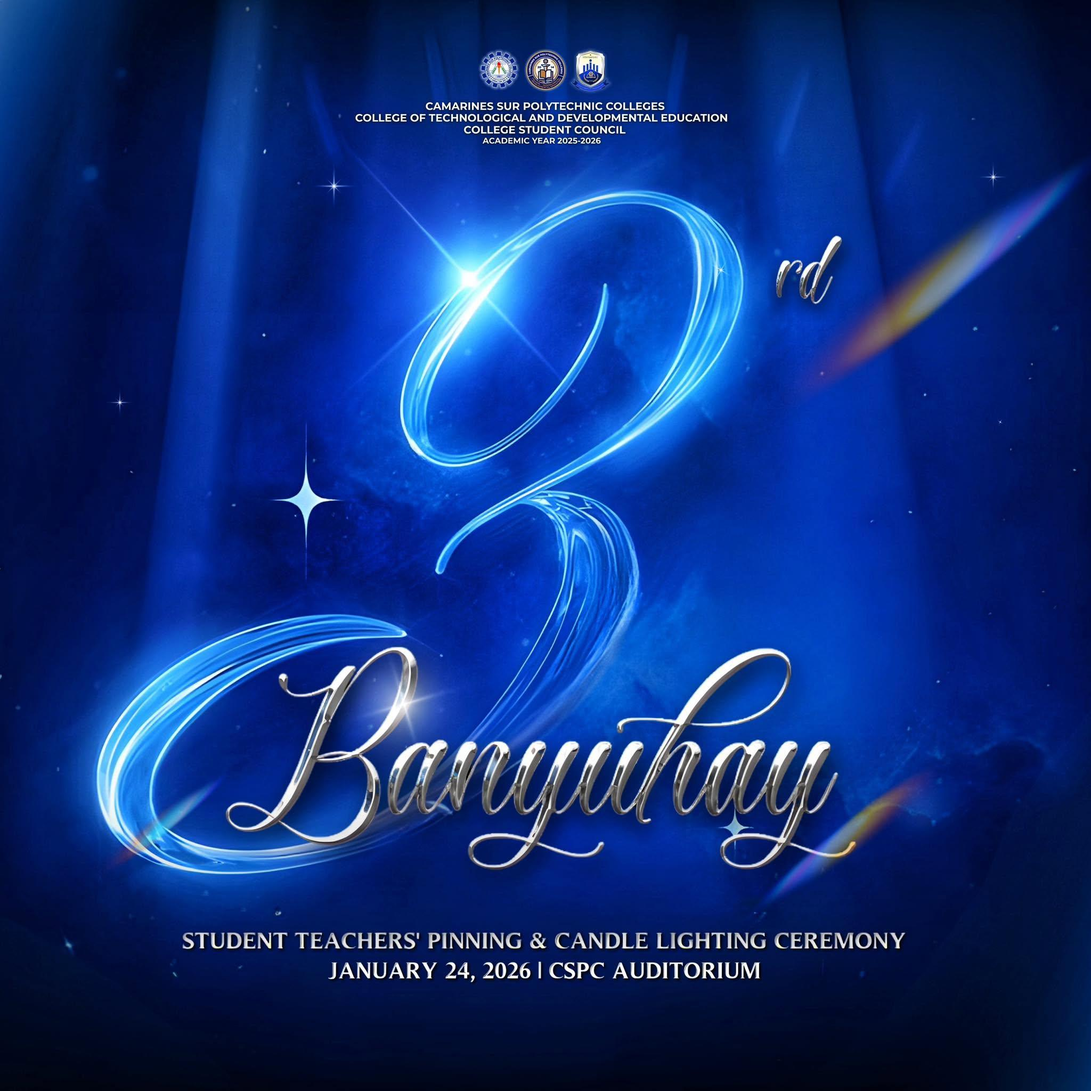embellishment: (96, 190, 745, 877), (268, 421, 341, 554)
logo: (526, 50, 566, 89), (480, 50, 518, 88), (574, 50, 606, 88)
text: (96, 191, 856, 875), (170, 924, 914, 984), (341, 102, 765, 153), (776, 237, 842, 302), (479, 49, 569, 92), (571, 51, 606, 91)
underlay: (825, 165, 1086, 378), (821, 774, 927, 850), (764, 856, 836, 903)
